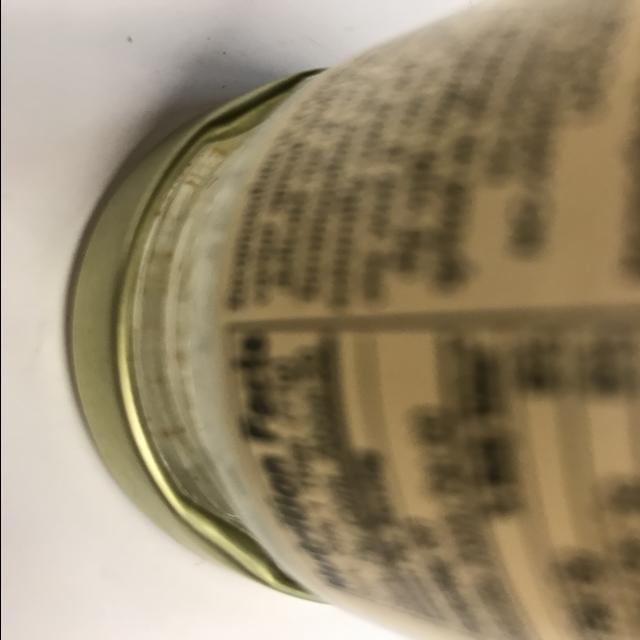glass: (54, 1, 638, 640)
